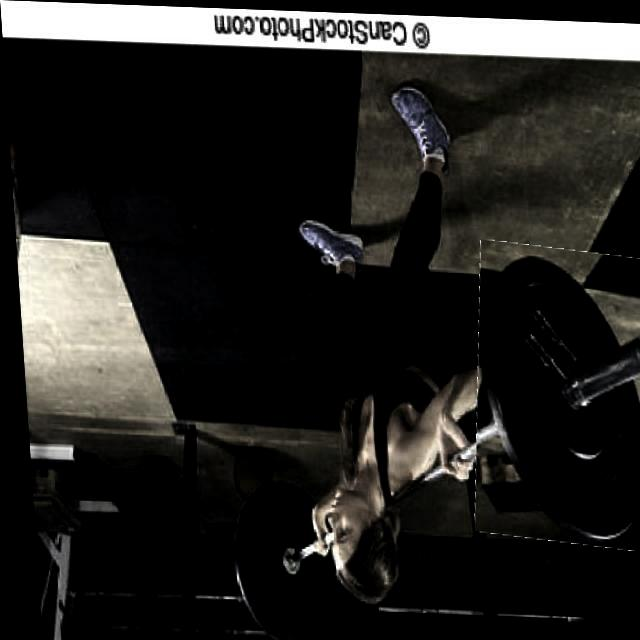barbell: (460, 238, 640, 545)
